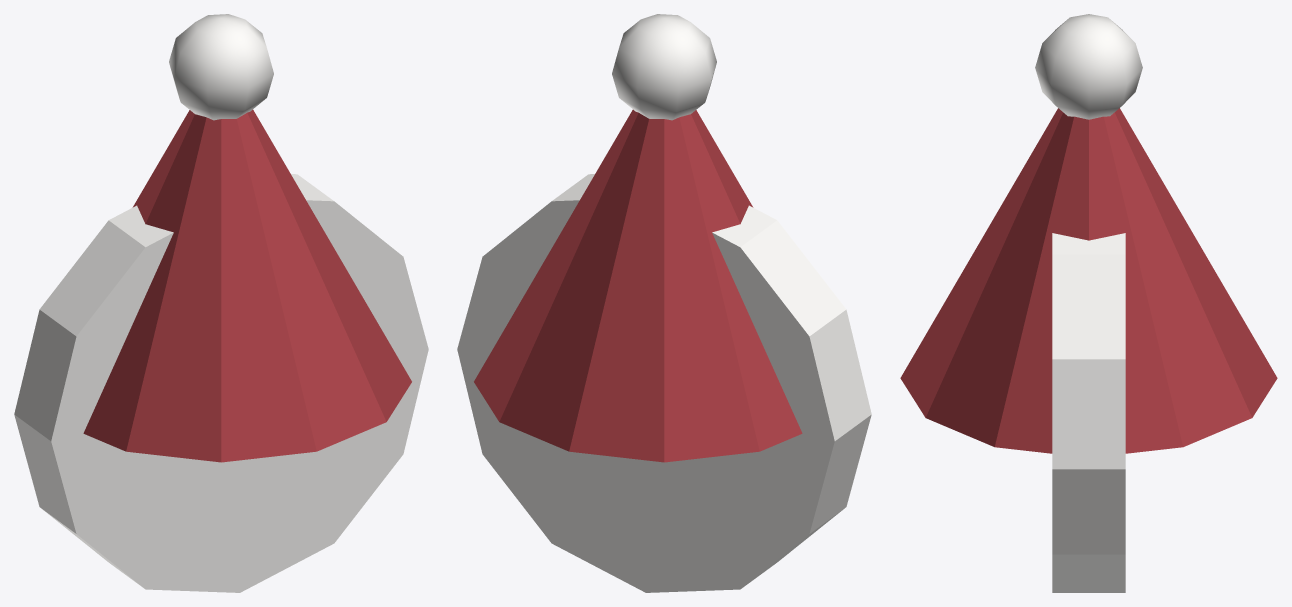
Rendered from santaHat.glb.
The picture shows the model from 3 angles, left to right: view 1: azimuth 30°, elevation 25°; view 2: azimuth 150°, elevation 25°; view 3: azimuth 270°, elevation 25°; orthographic projection.
Parts seen in each view (by area): view 1: santaHat; view 2: santaHat; view 3: santaHat.
Boxes of the visible parts, left/top/right/bottom form: santaHat: left=14, top=14, right=428, bottom=592; santaHat: left=457, top=14, right=871, bottom=592; santaHat: left=900, top=14, right=1277, bottom=592.
Size of the model in its own units: 0.224 by 0.318 by 0.196.
